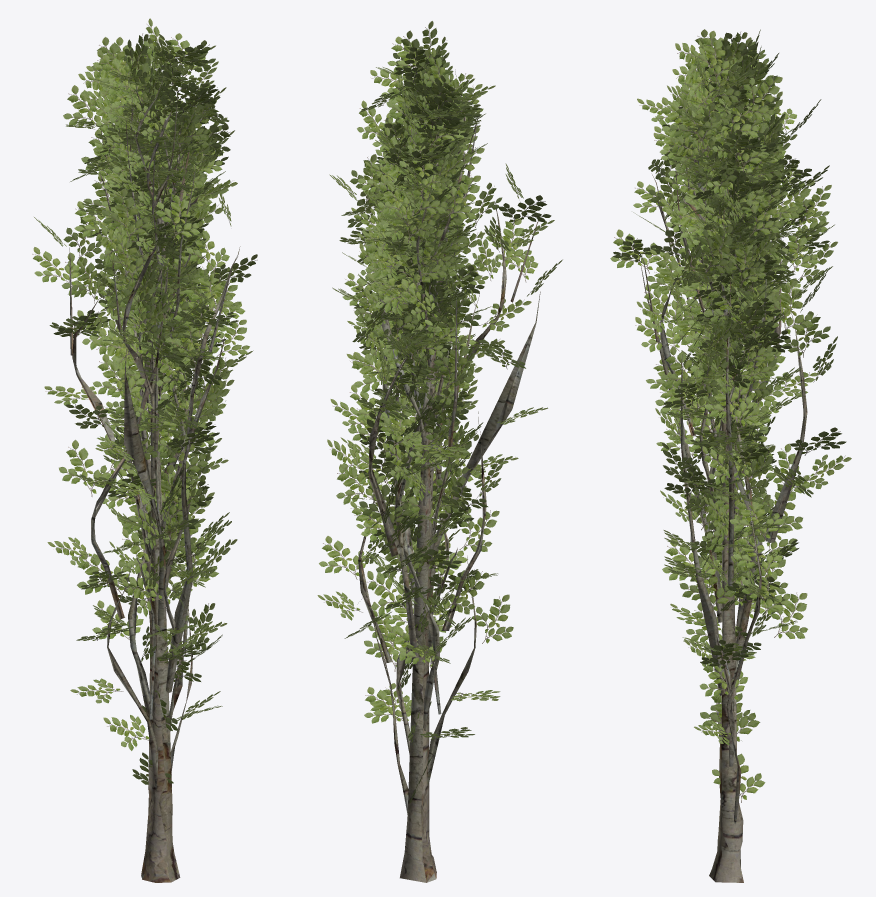
Rendered from tree_poplar.glb.
The picture shows the model from 3 angles, left to right: view 1: azimuth 30°, elevation 25°; view 2: azimuth 150°, elevation 25°; view 3: azimuth 270°, elevation 25°; orthographic projection.
Parts seen in each view (by area): view 1: leaves; view 2: leaves; view 3: leaves.
Part boxes in pixels (<box>): leaves: <box>32,18,257,882</box>; leaves: <box>317,21,562,882</box>; leaves: <box>610,29,851,882</box>.
Size of the model in its own units: 4.28 by 17 by 4.82.
2 materials, 2 textured.
